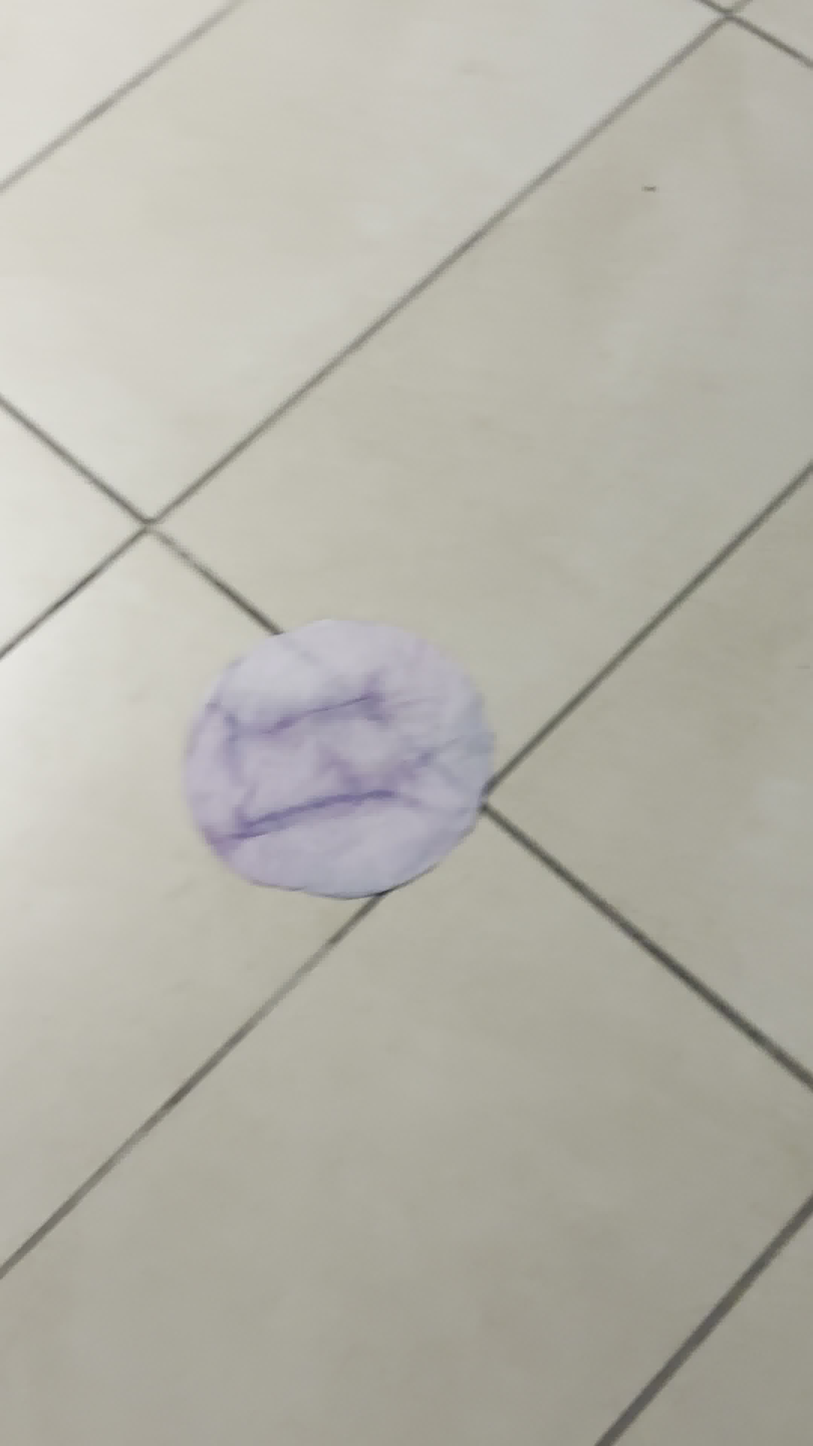Target: (183, 626, 497, 898)
